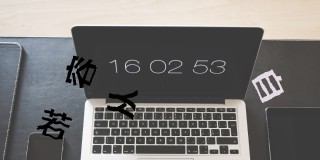从: (105, 89, 142, 122)
容: (64, 53, 98, 90)
自: (250, 67, 287, 103)
若: (37, 107, 73, 142)
